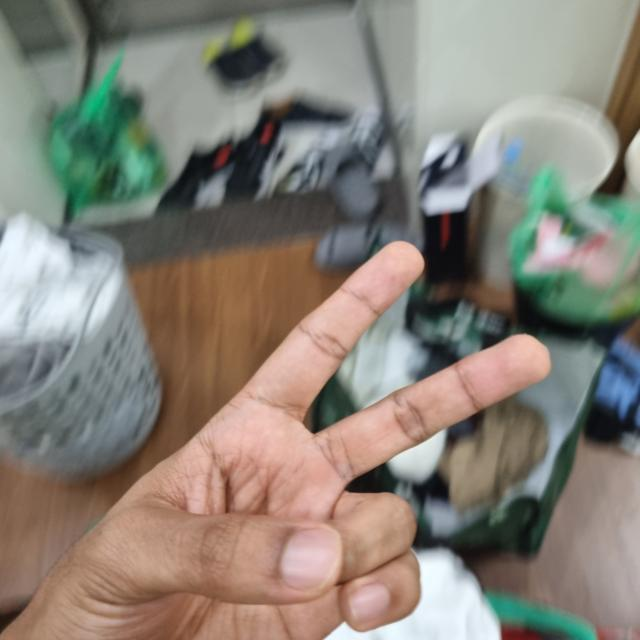Scissors: (1, 245, 549, 638)
